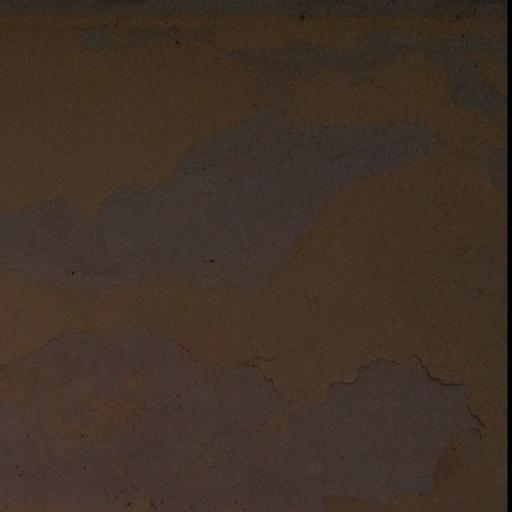peeling: (68, 316, 510, 512), (72, 98, 441, 288)
